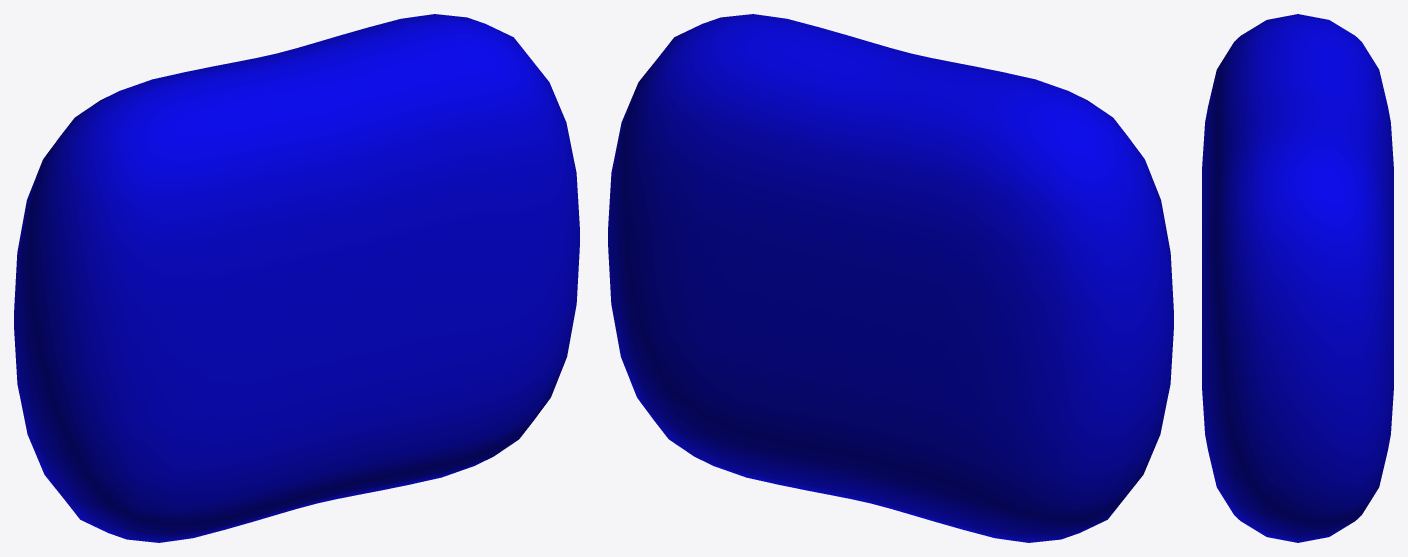
Rendered from Almofada.fbx.
The picture shows the model from 3 angles, left to right: view 1: azimuth 30°, elevation 25°; view 2: azimuth 150°, elevation 25°; view 3: azimuth 270°, elevation 25°; orthographic projection. The views are drawn at different scales.
Parts seen in each view (by area): view 1: pCube10; view 2: pCube10; view 3: pCube10.
Boxes of the visible parts, x1,y1,x2,y2 form: pCube10: (14,14,579,542); pCube10: (608,14,1173,542); pCube10: (1202,14,1393,542).
Size of the model in its own units: 85.99 by 67.87 by 30.26.
